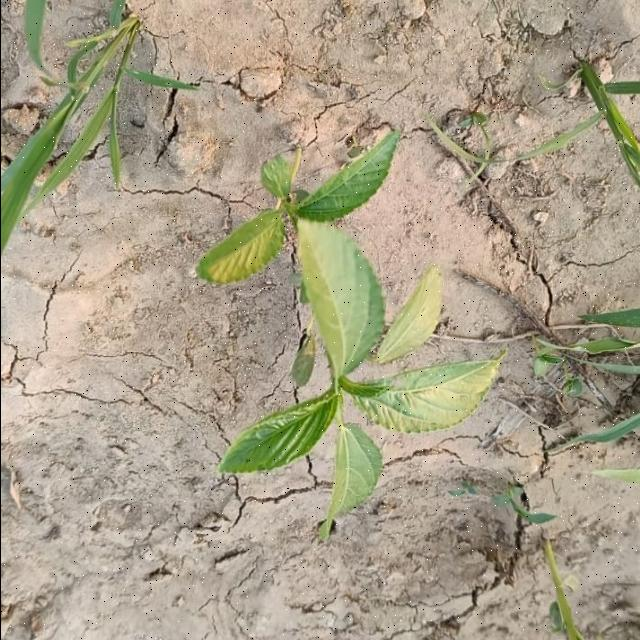plant: (197, 132, 499, 538)
